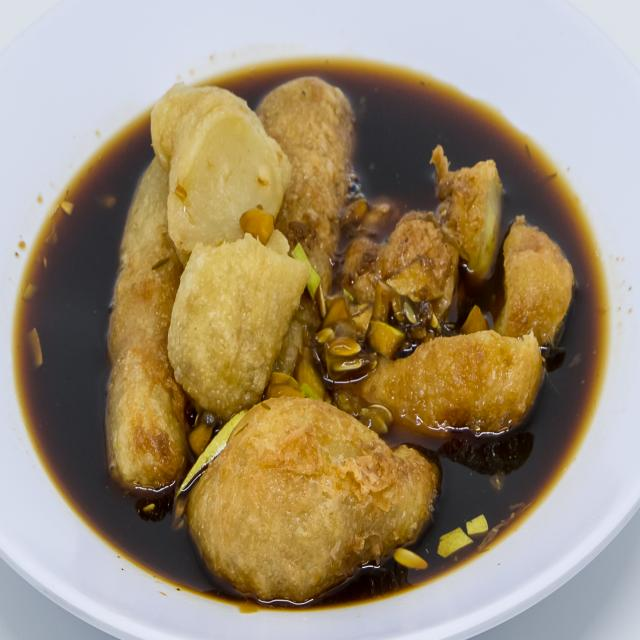Pempek-Palembang: (93, 60, 581, 614)
